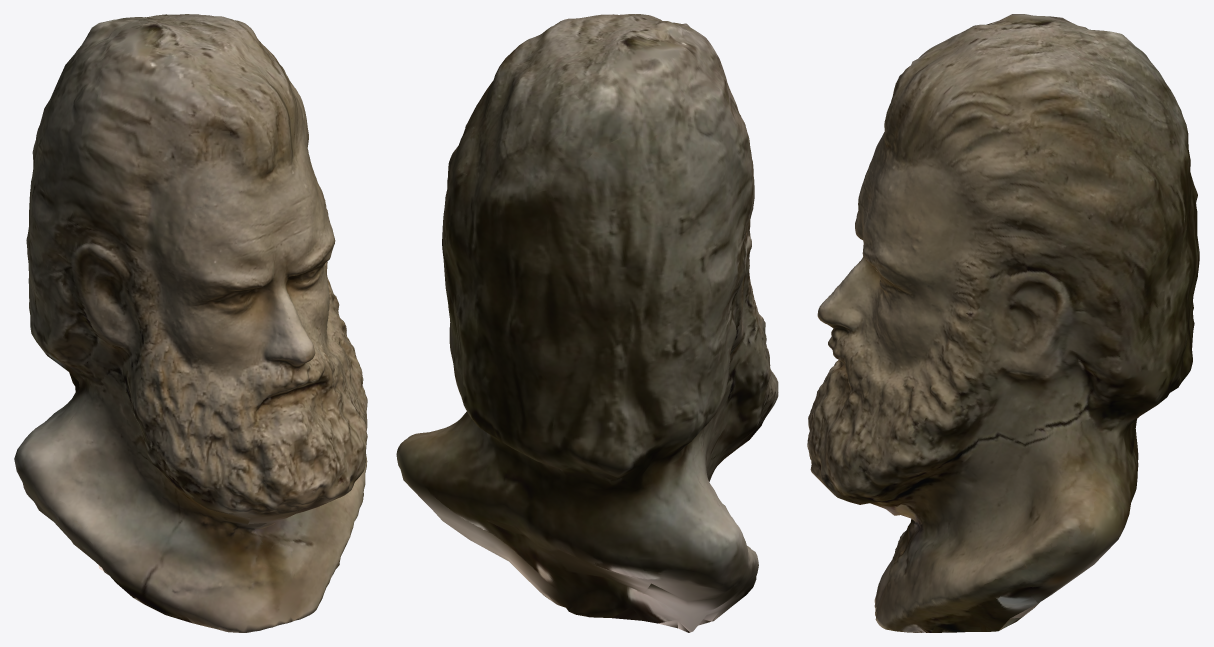
The picture shows the model from 3 angles, left to right: view 1: azimuth 30°, elevation 25°; view 2: azimuth 150°, elevation 25°; view 3: azimuth 270°, elevation 25°; orthographic projection. The views are drawn at different scales.
Parts seen in each view (by area): view 1: Object_2; view 2: Object_2; view 3: Object_2.
Part boxes in pixels (x1,y1,x2,y2): Object_2: (14,14,367,632); Object_2: (396,14,778,632); Object_2: (807,14,1199,632).
Bounding box in the file's own units: 0.1014 × 0.1728 × 0.1086.
1 material, 1 textured.
